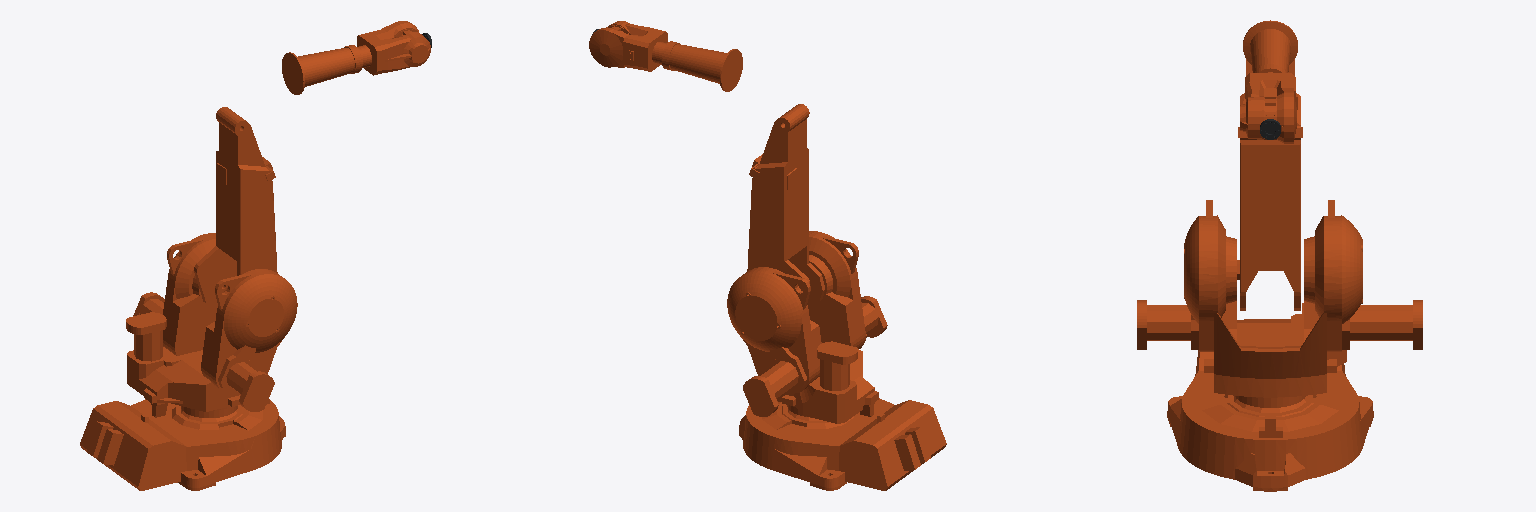
robot.urdf — abb_irb2400_on_positioner:
<?xml version="1.0" ?>
<!-- =================================================================================== -->
<!-- |    This document was autogenerated by xacro from irb2400.xacro                  | -->
<!-- |    EDITING THIS FILE BY HAND IS NOT RECOMMENDED                                 | -->
<!-- =================================================================================== -->
<robot name="abb_irb2400_on_positioner" xmlns:xacro="http://ros.org/wiki/xacro">
  <!-- Conversion were obtained from http://www.e-paint.co.uk/Lab_values.asp
       unless otherwise stated. -->
  <!-- Actual colors -->
  <!-- NCS 2070-Y60R orange, standard robot color 1974 - May 2014 -->
  <!-- RAL 7035 light grey (abb graphite white), standard robot color May 2014 - current -->
  <!-- RAL 9003 signal white (abb white), cleanroom robot color -->
  <!-- RAL 7032 pebble gray, controller -->
  <!-- RAL 7012 basalt gray (abb dark gray) , robot primer -->
  <!-- RAL 7021 black gray (abb black) , robot with dark link color -->
  <!-- Other robot colours availble, but not limited too. -->
  <!-- RAL 3001 signal red -->
  <!-- RAL 3002 carmine red -->
  <!-- RAL 5002 ultramarine blue -->
  <!-- RAL 5015 sky blue -->
  <!-- RAL 6002 leaf green -->
  <!-- RAL 9002 gray white -->
  <!-- RAL 9010 pure white -->
  <!-- approximations -->
  <!-- yellow, collision model -->
  <!-- link list -->
  <link name="positioner_base_link"/>
  <link name="positioner_tool0"/>

  <link name="base_link">
    <visual>
      <origin rpy="0 0 0" xyz="0 0 0"/>
      <geometry>
        <mesh filename="package://tesseract_support/urdf/abb_irb2400/irb2400/visual/base_link.dae"/>
      </geometry>
      <material name="">
        <color rgba="0.7372549 0.3490196 0.1607843 1"/>
      </material>
    </visual>
    <collision>
      <geometry>
        <mesh filename="package://tesseract_support/urdf/abb_irb2400/irb2400/collision/base_link.stl"/>
      </geometry>
      <material name="yellow">
        <color rgba="1 1 0 1"/>
      </material>
    </collision>
  </link>
  <link name="link_1">
    <visual>
      <origin rpy="0 0 0" xyz="0 0 0"/>
      <geometry>
        <mesh filename="package://tesseract_support/urdf/abb_irb2400/irb2400/visual/link_1.dae"/>
      </geometry>
      <material name="">
        <color rgba="0.7372549 0.3490196 0.1607843 1"/>
      </material>
    </visual>
    <collision>
      <origin rpy="0 0 0" xyz="0 0 0"/>
      <geometry>
        <mesh filename="package://tesseract_support/urdf/abb_irb2400/irb2400/collision/link_1.stl"/>
      </geometry>
    </collision>
  </link>
  <link name="link_2">
    <visual>
      <origin rpy="0 0 0" xyz="0 0 0"/>
      <geometry>
        <mesh filename="package://tesseract_support/urdf/abb_irb2400/irb2400/visual/link_2.dae"/>
      </geometry>
      <material name="">
        <color rgba="0.7372549 0.3490196 0.1607843 1"/>
      </material>
    </visual>
    <collision>
      <origin rpy="0 0 0" xyz="0 0 0"/>
      <geometry>
        <mesh filename="package://tesseract_support/urdf/abb_irb2400/irb2400/collision/link_2_whole.stl"/>
      </geometry>
    </collision>
  </link>
  <link name="link_3">
    <visual>
      <origin rpy="0 0 0" xyz="0 0 0"/>
      <geometry>
        <mesh filename="package://tesseract_support/urdf/abb_irb2400/irb2400/visual/link_3.dae"/>
      </geometry>
      <material name="">
        <color rgba="0.7372549 0.3490196 0.1607843 1"/>
      </material>
    </visual>
    <collision>
      <origin rpy="0 0 0" xyz="0 0 0"/>
      <geometry>
        <mesh filename="package://tesseract_support/urdf/abb_irb2400/irb2400/collision/link_3.stl"/>
      </geometry>
    </collision>
  </link>
  <link name="link_4">
    <visual>
      <origin rpy="0 0 0" xyz="0 0 0"/>
      <geometry>
        <mesh filename="package://tesseract_support/urdf/abb_irb2400/irb2400/visual/link_4.dae"/>
      </geometry>
      <material name="">
        <color rgba="0.7372549 0.3490196 0.1607843 1"/>
      </material>
    </visual>
    <collision>
      <origin rpy="0 0 0" xyz="0 0 0"/>
      <geometry>
        <mesh filename="package://tesseract_support/urdf/abb_irb2400/irb2400/collision/link_4.stl"/>
      </geometry>
    </collision>
  </link>
  <link name="link_5">
    <visual>
      <origin rpy="0 0 0" xyz="0 0 0"/>
      <geometry>
        <mesh filename="package://tesseract_support/urdf/abb_irb2400/irb2400/visual/link_5.dae"/>
      </geometry>
      <material name="">
        <color rgba="0.7372549 0.3490196 0.1607843 1"/>
      </material>
    </visual>
    <collision>
      <origin rpy="0 0 0" xyz="0 0 0"/>
      <geometry>
        <mesh filename="package://tesseract_support/urdf/abb_irb2400/irb2400/collision/link_5.stl"/>
      </geometry>
    </collision>
  </link>
  <link name="link_6">
    <visual>
      <origin rpy="0 0 0" xyz="0 0 0"/>
      <geometry>
        <mesh filename="package://tesseract_support/urdf/abb_irb2400/irb2400/visual/link_6.dae"/>
      </geometry>
      <material name="">
        <color rgba="0.1882353 0.1960784 0.2039216 1"/>
      </material>
    </visual>
    <collision>
      <origin rpy="0 0 0" xyz="0 0 0"/>
      <geometry>
        <mesh filename="package://tesseract_support/urdf/abb_irb2400/irb2400/collision/link_6.stl"/>
      </geometry>
    </collision>
  </link>
  <link name="tool0"/>
  <!-- end of link list -->
  <!-- joint list -->
  <joint name="positioner_joint_1" type="prismatic">
    <origin rpy="0 0 0" xyz="0 0 0"/>
    <parent link="positioner_base_link"/>
    <child link="positioner_tool0"/>
    <axis xyz="0 1 0"/>
    <limit effort="0" lower="-1.0" upper="1.0" velocity="2.618"/>
  </joint>
  <joint name="positioner_robot_joint" type="fixed">
    <parent link="positioner_tool0"/>
    <child link="base_link"/>
    <origin rpy="0 0 0" xyz="0 0 0"/>
  </joint>
  <joint name="joint_1" type="revolute">
    <origin rpy="0 0 0" xyz="0 0 0"/>
    <parent link="base_link"/>
    <child link="link_1"/>
    <axis xyz="0 0 1"/>
    <limit effort="0" lower="-3.1416" upper="3.1416" velocity="2.618"/>
  </joint>
  <joint name="joint_2" type="revolute">
    <origin rpy="0 0 0" xyz="0.1 0 0.615"/>
    <parent link="link_1"/>
    <child link="link_2"/>
    <axis xyz="0 1 0"/>
    <limit effort="0" lower="-1.7453" upper="1.9199" velocity="2.618"/>
  </joint>
  <joint name="joint_3" type="revolute">
    <origin rpy="0 0 0" xyz="0 0 0.705"/>
    <parent link="link_2"/>
    <child link="link_3"/>
    <axis xyz="0 1 0"/>
    <limit effort="0" lower="-1.0472" upper="1.1345" velocity="2.618"/>
  </joint>
  <joint name="joint_4" type="revolute">
    <origin rpy="0 0 0" xyz="0.258 0 0.135"/>
    <parent link="link_3"/>
    <child link="link_4"/>
    <axis xyz="1 0 0"/>
    <limit effort="0" lower="-3.49" upper="3.49" velocity="6.2832"/>
  </joint>
  <joint name="joint_5" type="revolute">
    <origin rpy="0 0 0" xyz="0.497 0 0"/>
    <parent link="link_4"/>
    <child link="link_5"/>
    <axis xyz="0 1 0"/>
    <limit effort="0" lower="-2.0944" upper="2.0944" velocity="6.2832"/>
  </joint>
  <joint name="joint_6" type="revolute">
    <origin rpy="0 0 0" xyz="0.085 0 0"/>
    <parent link="link_5"/>
    <child link="link_6"/>
    <axis xyz="1 0 0"/>
    <limit effort="0" lower="-6.9813" upper="6.9813" velocity="7.854"/>
  </joint>
  <joint name="joint_6-tool0" type="fixed">
    <parent link="link_6"/>
    <child link="tool0"/>
    <origin rpy="0 1.57079632679 0" xyz="0 0 0"/>
  </joint>
  <!-- end of joint list -->
  <!-- ROS base_link to ABB World Coordinates transform -->
  <link name="base"/>
  <joint name="base_link-base" type="fixed">
    <origin rpy="0 0 0" xyz="0 0 0"/>
    <parent link="base_link"/>
    <child link="base"/>
  </joint>
</robot>

--- Facts derived from the render (not from the file) ---
3 views of the same robot in one strip: view 1: azimuth 30°, elevation 25°; view 2: azimuth 150°, elevation 25°; view 3: azimuth 270°, elevation 25° (orthographic).
Model abb_irb2400_on_positioner with 11 links and 10 joints (6 revolute, 1 prismatic, 3 fixed), rooted at positioner_base_link, posed all joints at 0.
Visible links, largest first — view 1: link_1, base_link, link_2, link_4; view 2: link_1, base_link, link_2, link_4; view 3: link_1, base_link, link_2, link_4.
Boxes of the visible links, left/top/right/bottom form: link_1: left=126, top=233, right=297, bottom=417; base_link: left=80, top=399, right=285, bottom=490; link_2: left=194, top=107, right=277, bottom=308; link_4: left=282, top=21, right=430, bottom=94; link_1: left=727, top=231, right=887, bottom=423; base_link: left=739, top=398, right=946, bottom=490; link_2: left=747, top=104, right=824, bottom=306; link_4: left=589, top=21, right=742, bottom=91; link_1: left=1137, top=200, right=1422, bottom=407; base_link: left=1167, top=350, right=1373, bottom=491; link_2: left=1237, top=59, right=1302, bottom=310; link_4: left=1240, top=20, right=1297, bottom=143.
Size in the robot's own frame: 1.41 by 0.833 by 1.54 metres.
Meshes: 7 distinct files referenced, 6 mesh visuals loaded (6 Collada DAE); not drawn: 1 (reference not matched to a file when rendering).